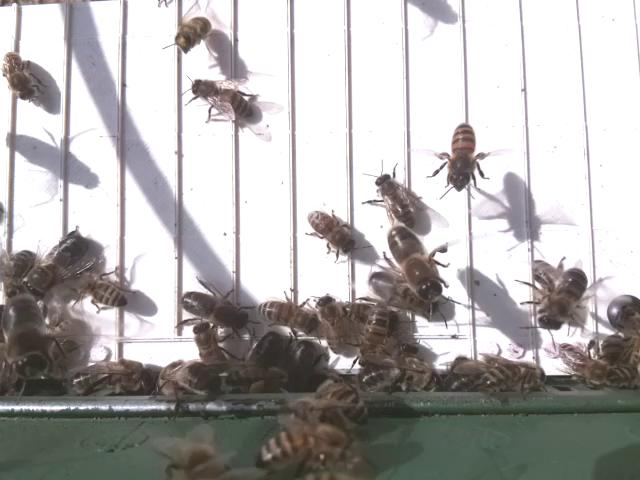Drone: (383, 222, 444, 304), (25, 228, 91, 298), (534, 265, 590, 334), (178, 285, 251, 331)
Worker: (189, 75, 257, 124), (305, 206, 358, 258), (374, 169, 416, 226), (254, 295, 314, 333), (316, 294, 352, 356), (450, 122, 480, 194), (72, 273, 130, 310), (0, 50, 40, 103), (172, 14, 215, 54)
